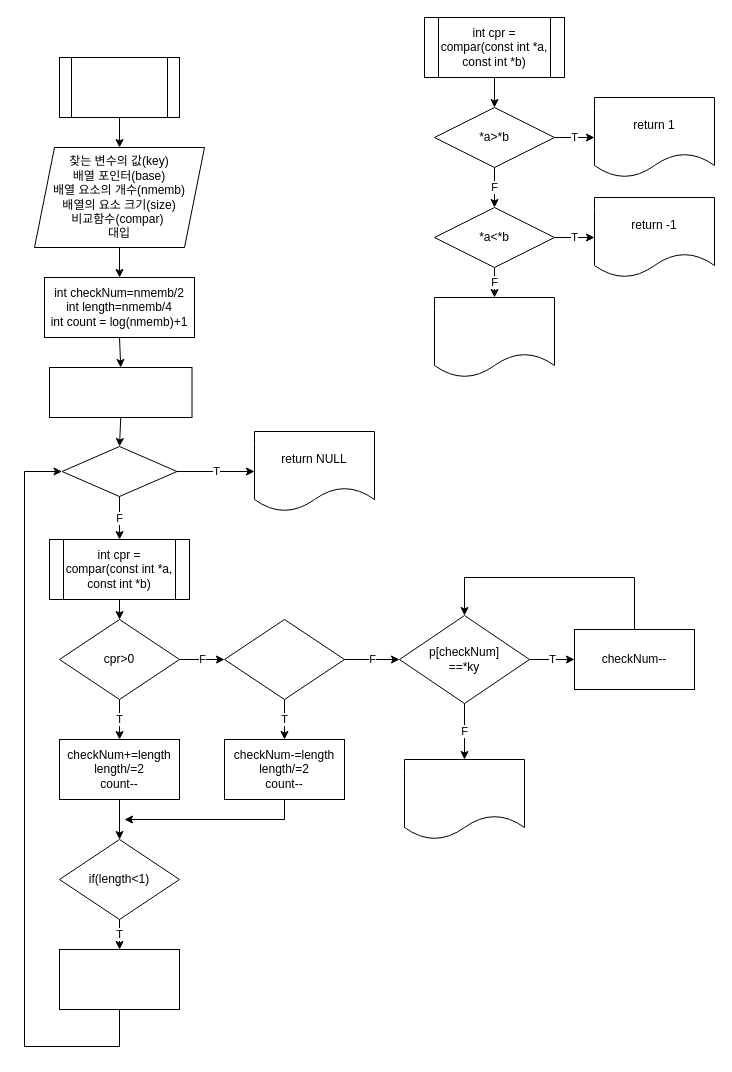
Some shapes in this 732 by 1072 pixel diagram are drawn without their labels. The centre of each missing label's shape, as x and y in pixels:
count ==0: point 119,471
cpr<0: point 284,659
int *p=(int*)base int *ky=key;: point 120,392
length=1: point 119,979
return &p[checkNum+1: point 464,799
return 0: point 494,337
이진 검색 및 가장 앞쪽으로 선형 검색: point 119,87
